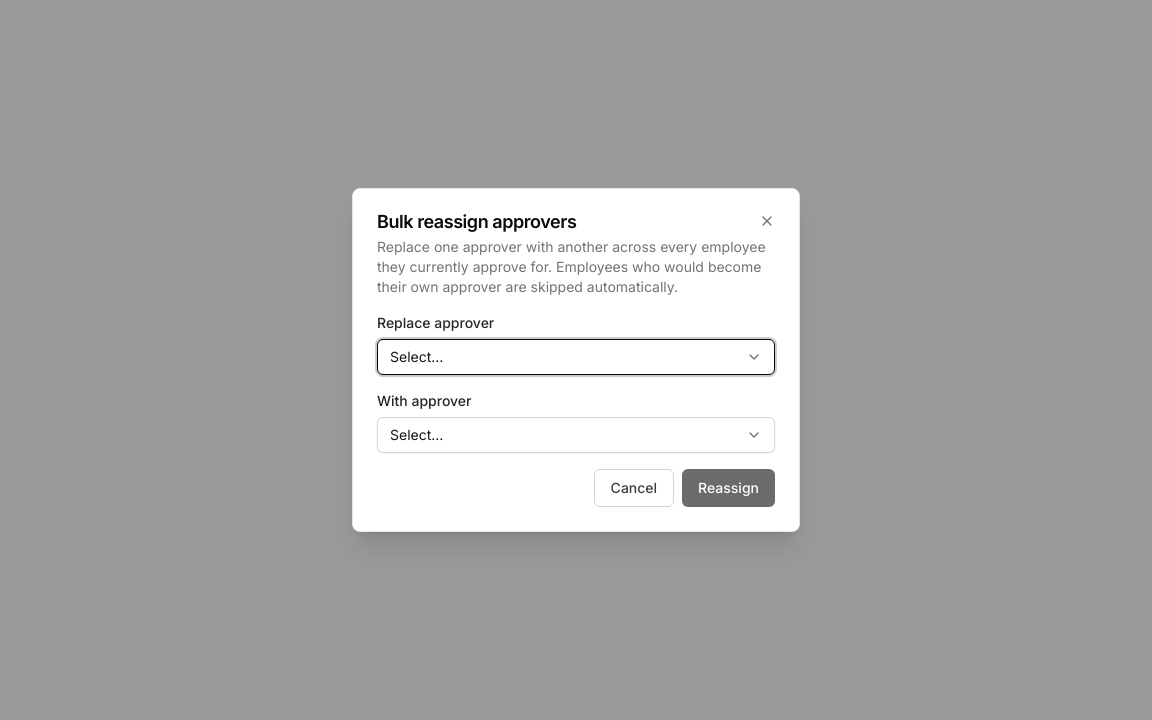
Test: BulkReassignDialog › disables Reassign until from and to are chosen and differ
The width and height of the screenshot is (1152, 720).
Expected: the button "Reassign" is disabled, [682,469,775,507]
Click the button with aria-label "replace approver".
click(417, 356)  # box [377,339,775,375]
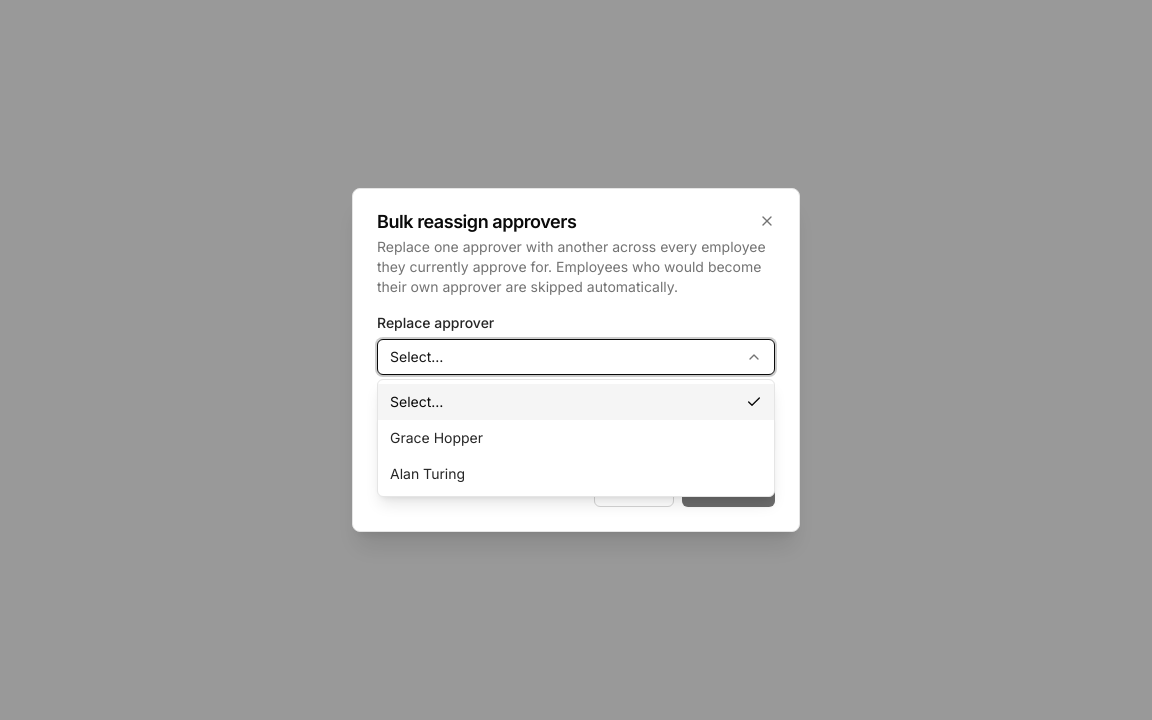
Click the option "Grace Hopper".
click(437, 438)  # box [390,429,483,446]
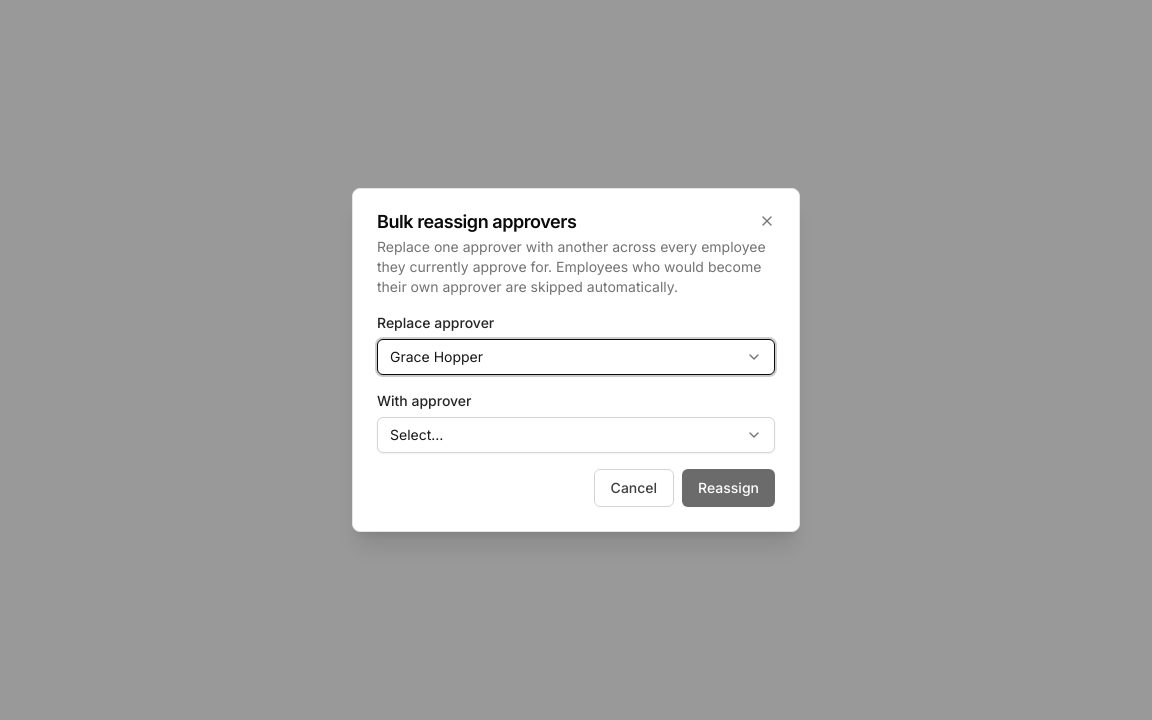
Click the button with aria-label "with approver".
click(417, 434)  # box [377,417,775,453]
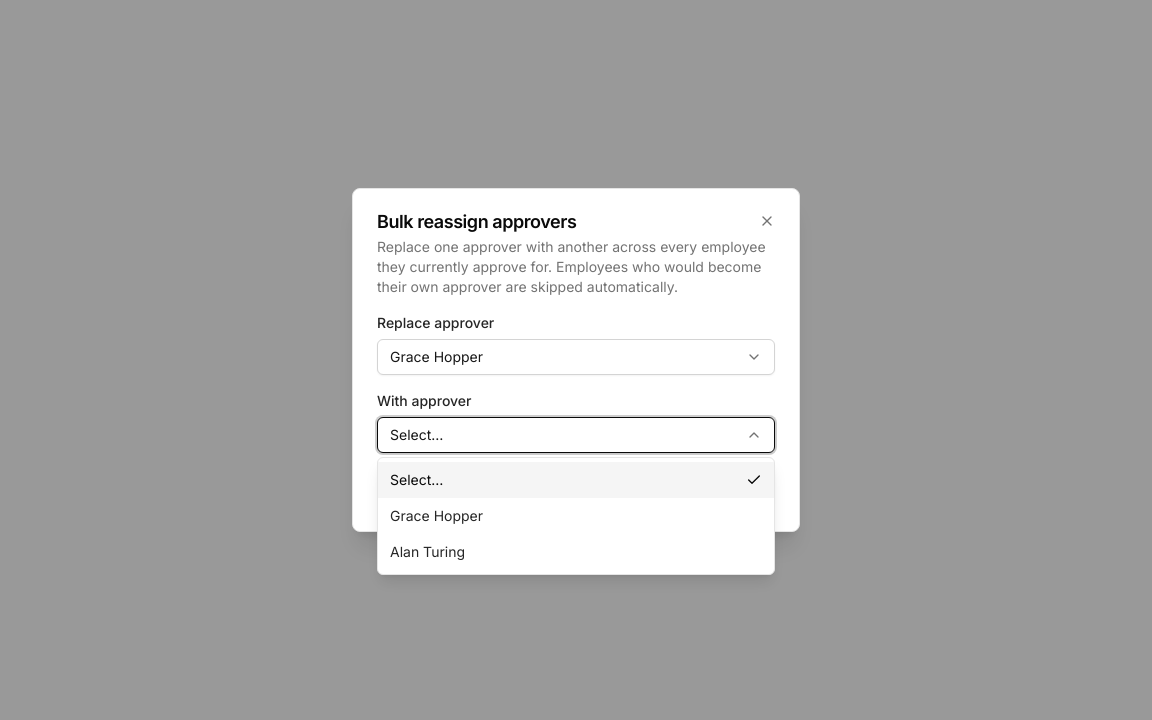
Click the option "Grace Hopper".
click(437, 516)  # box [390,507,483,524]
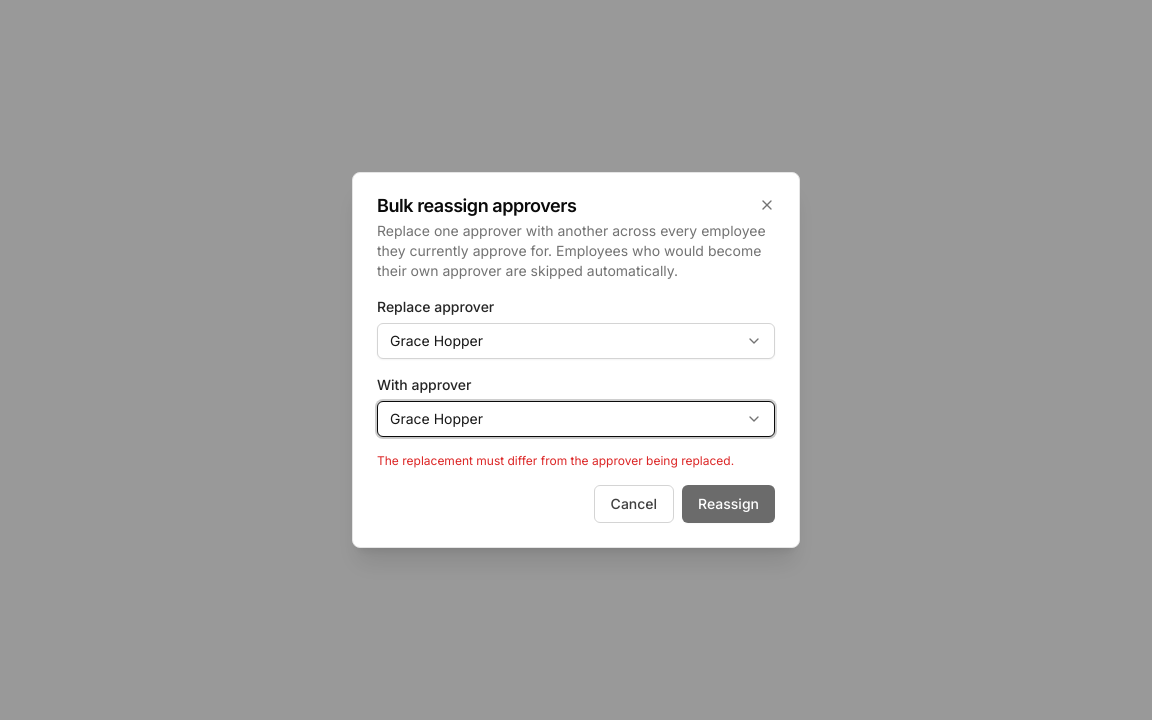
Expected: the button "Reassign" is disabled, [682,485,775,523]
Click the button with aria-label "with approver".
click(437, 418)  # box [377,401,775,437]
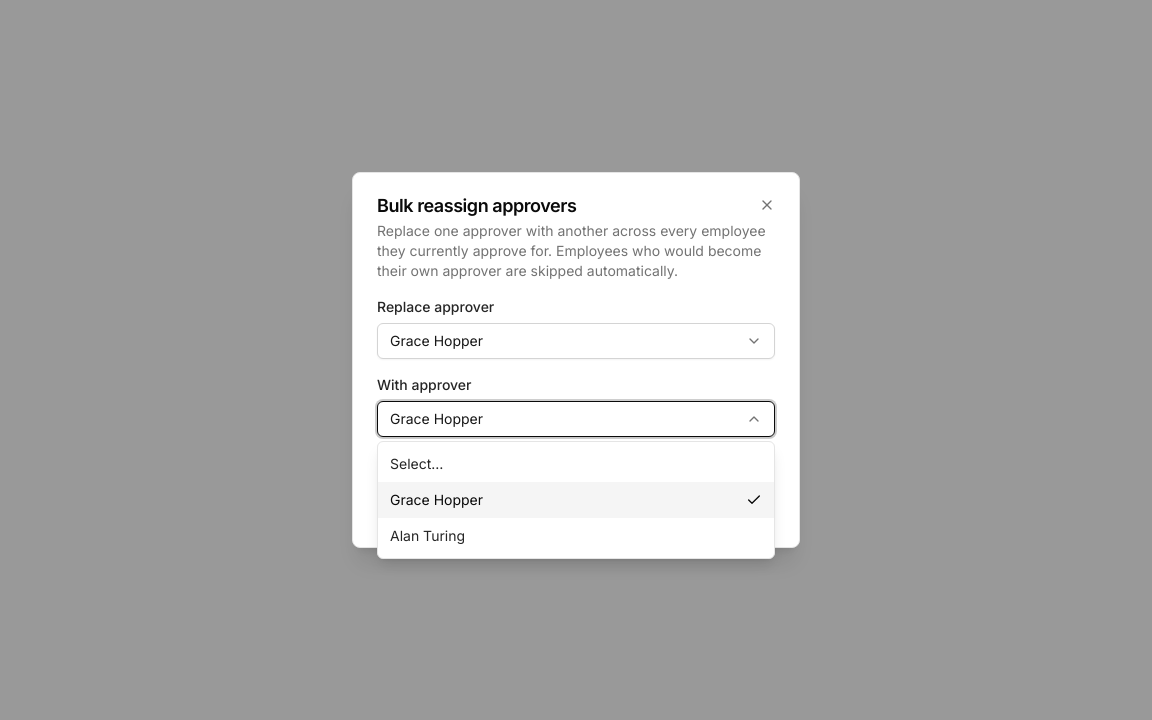
Click the option "Alan Turing".
click(428, 536)  # box [390,527,465,544]
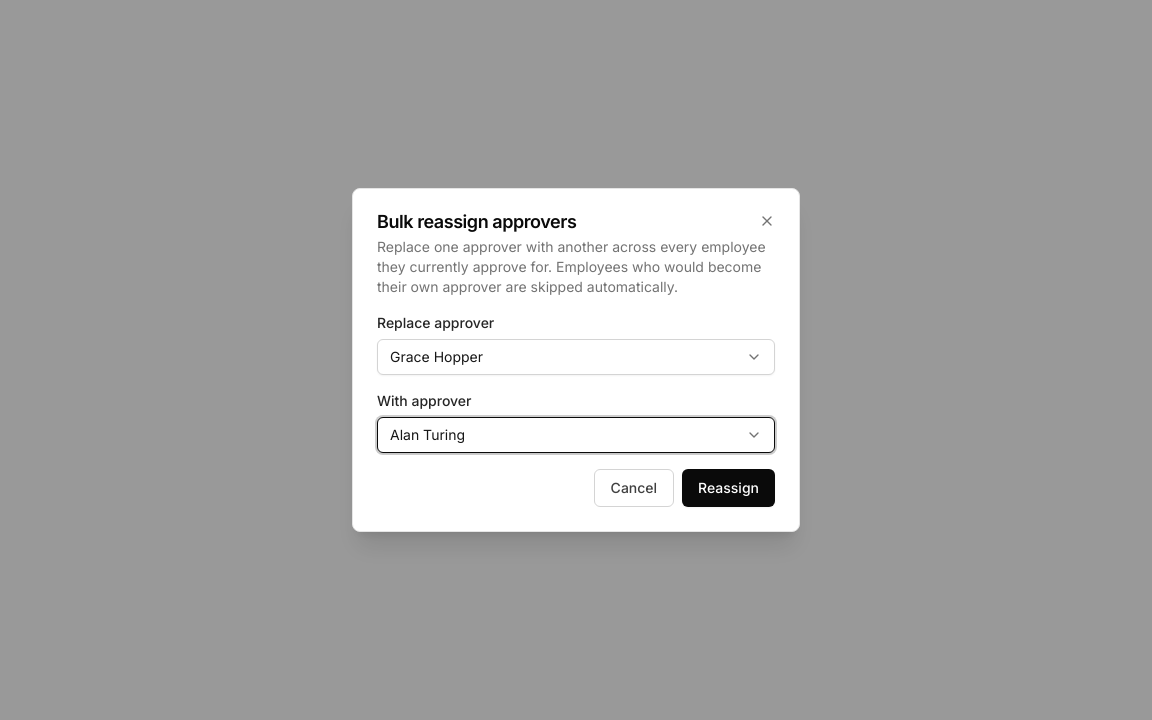
Expected: the button "Reassign" is enabled, [682,469,775,507]
